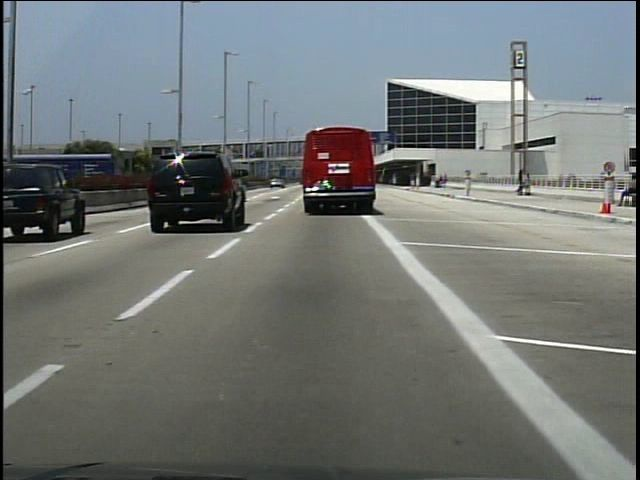person: (617, 173, 637, 209)
